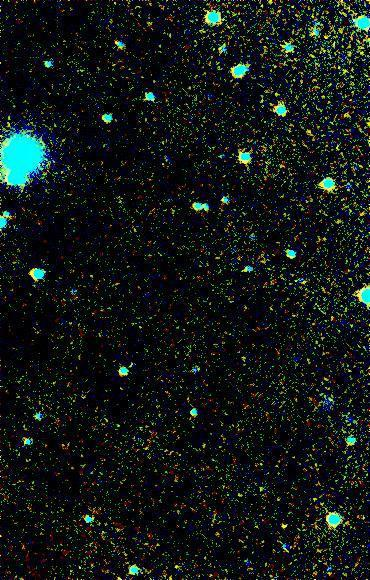star: (273, 511, 303, 541)
